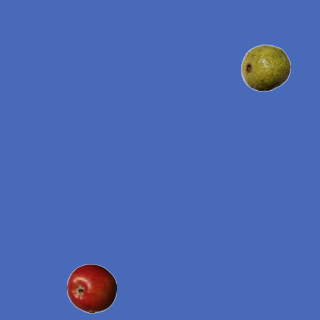Apple Braeburn: (66, 263, 116, 313)
Guava: (240, 42, 290, 92)
